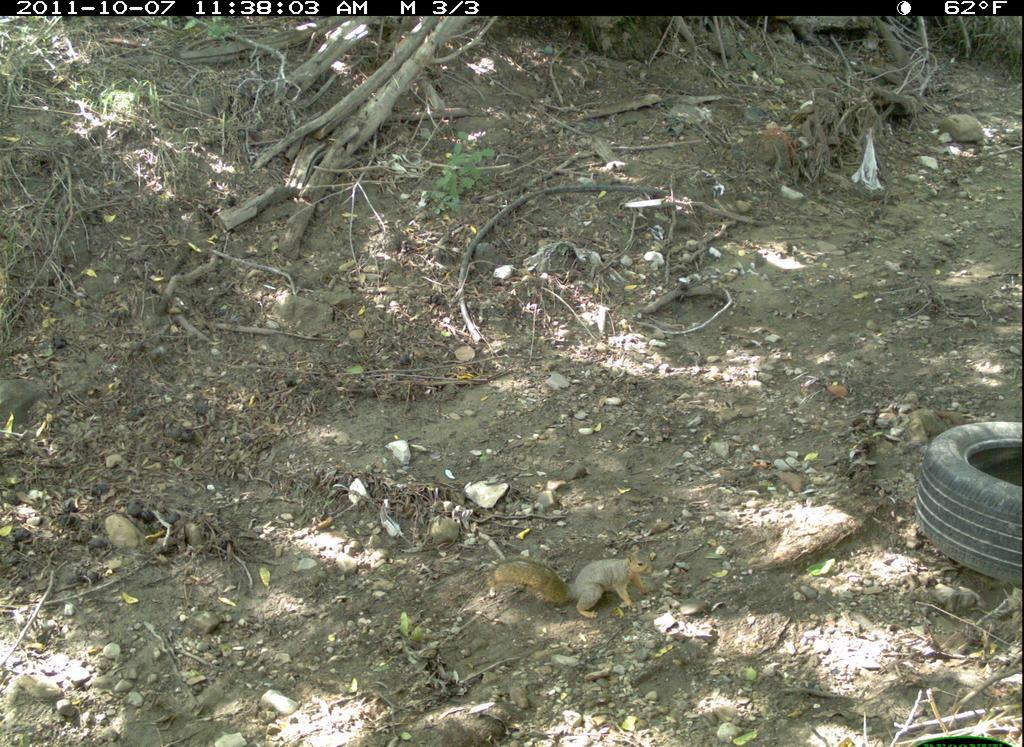squirrel: (484, 543, 675, 625)
